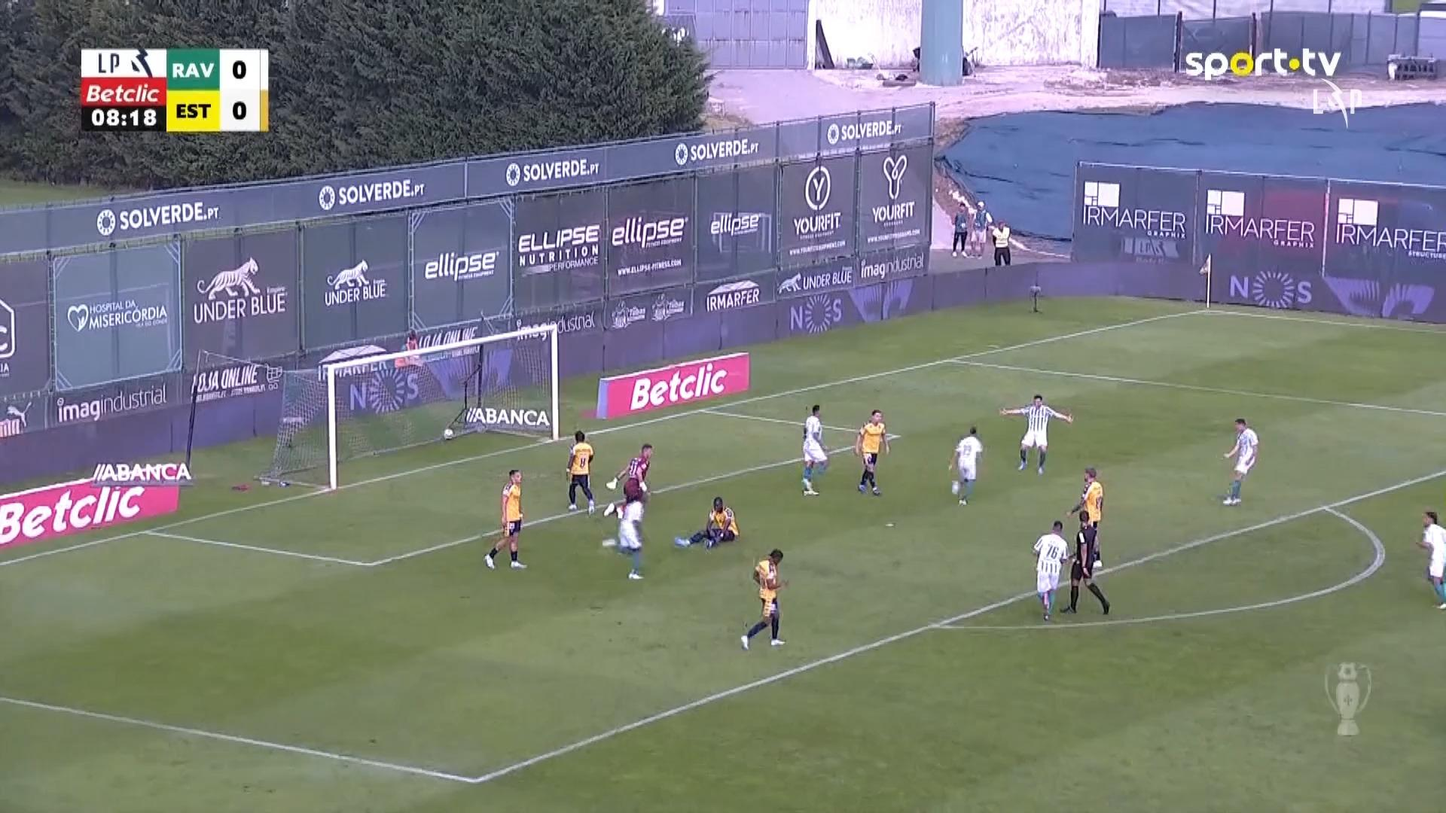ball: (443, 427, 453, 440)
goalkeeper: (605, 443, 653, 505)
player: (998, 393, 1073, 474), (740, 548, 789, 650), (602, 478, 647, 580), (482, 468, 527, 569), (1030, 519, 1070, 621), (1068, 465, 1105, 569), (673, 495, 739, 550), (1221, 417, 1259, 505), (853, 409, 889, 495), (947, 425, 983, 506), (1415, 508, 1444, 608), (800, 403, 830, 495), (564, 430, 596, 515)
referee: (1059, 509, 1110, 614)
